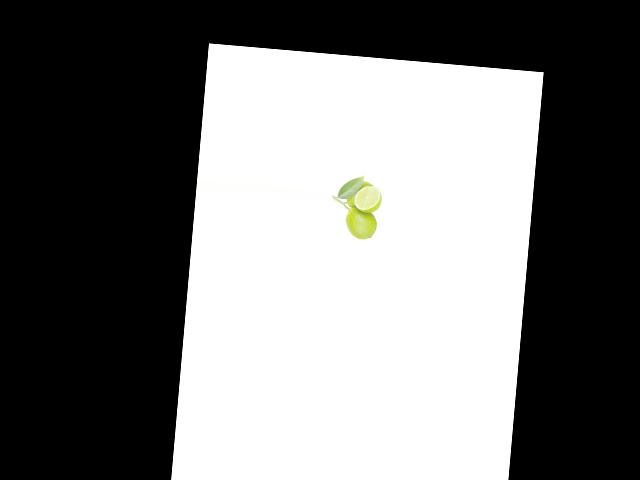lemon: (342, 177, 374, 208)
